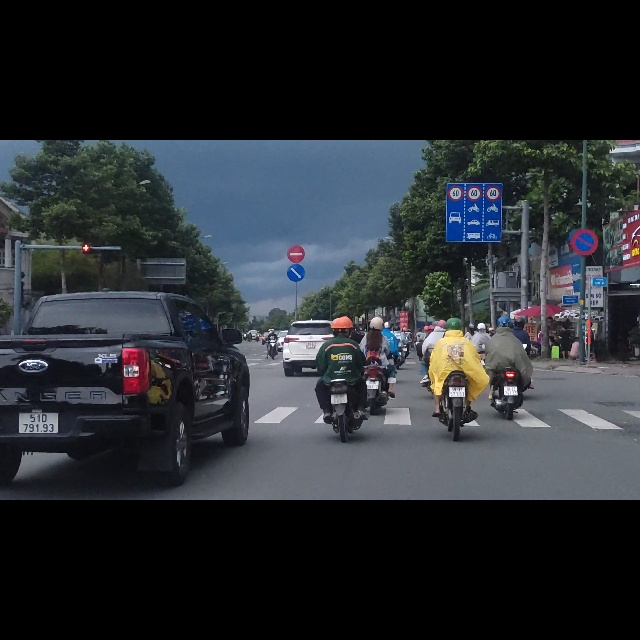bien_hieu_lenh: (444, 75, 503, 181), (571, 157, 598, 205), (286, 185, 306, 219), (286, 219, 306, 252)
